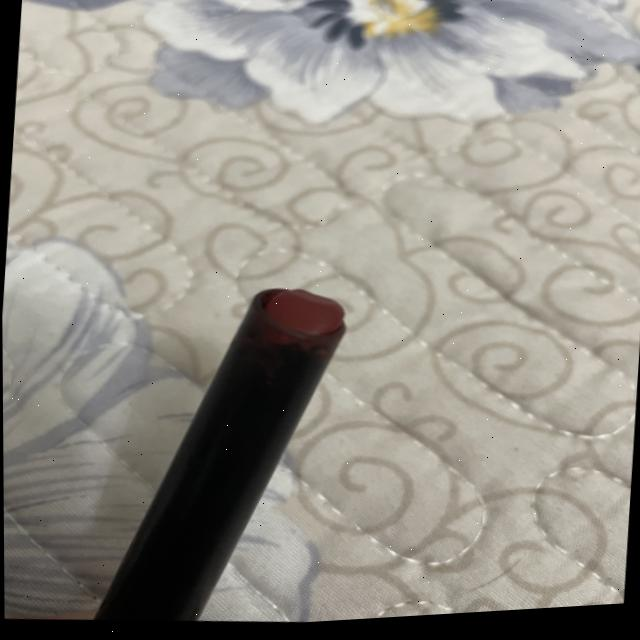lip stick: (61, 267, 356, 637)
